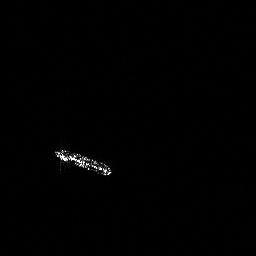ship: (51, 145, 114, 178)
